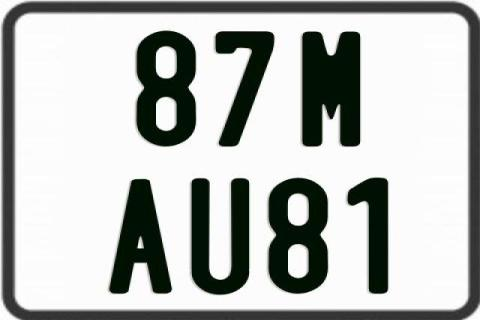0: (212, 29, 276, 149), (267, 177, 327, 297), (133, 28, 194, 144), (346, 176, 393, 292)
A: (106, 179, 169, 293)
M: (300, 30, 364, 146)
U: (191, 179, 255, 299)
